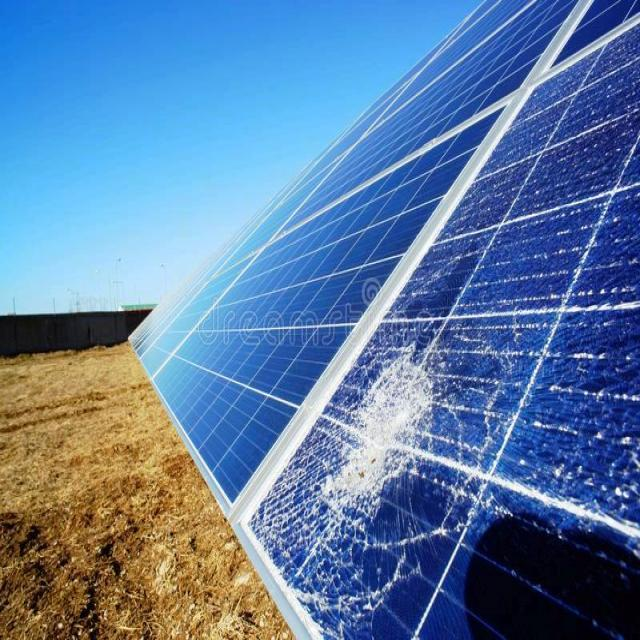faulty: (235, 16, 640, 638)
no faulty: (145, 96, 512, 508)
